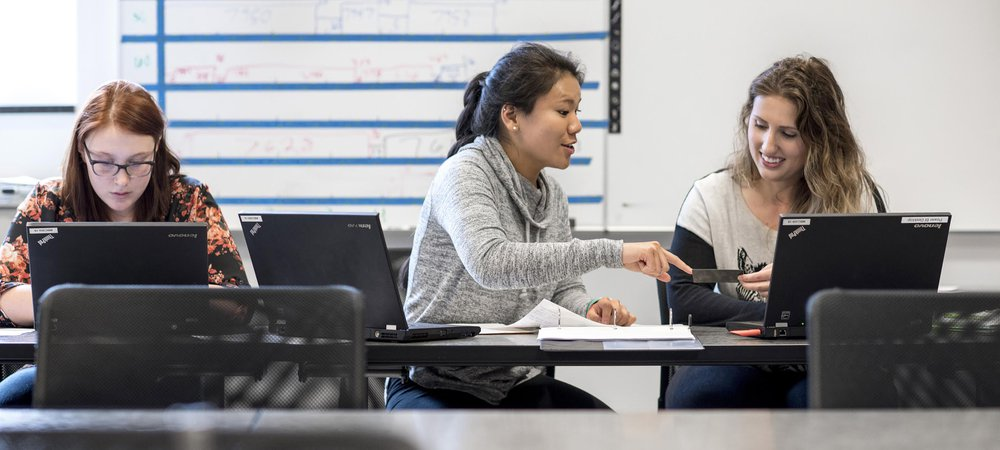Person: (400, 55, 650, 310), (20, 65, 260, 320), (690, 75, 900, 290)
